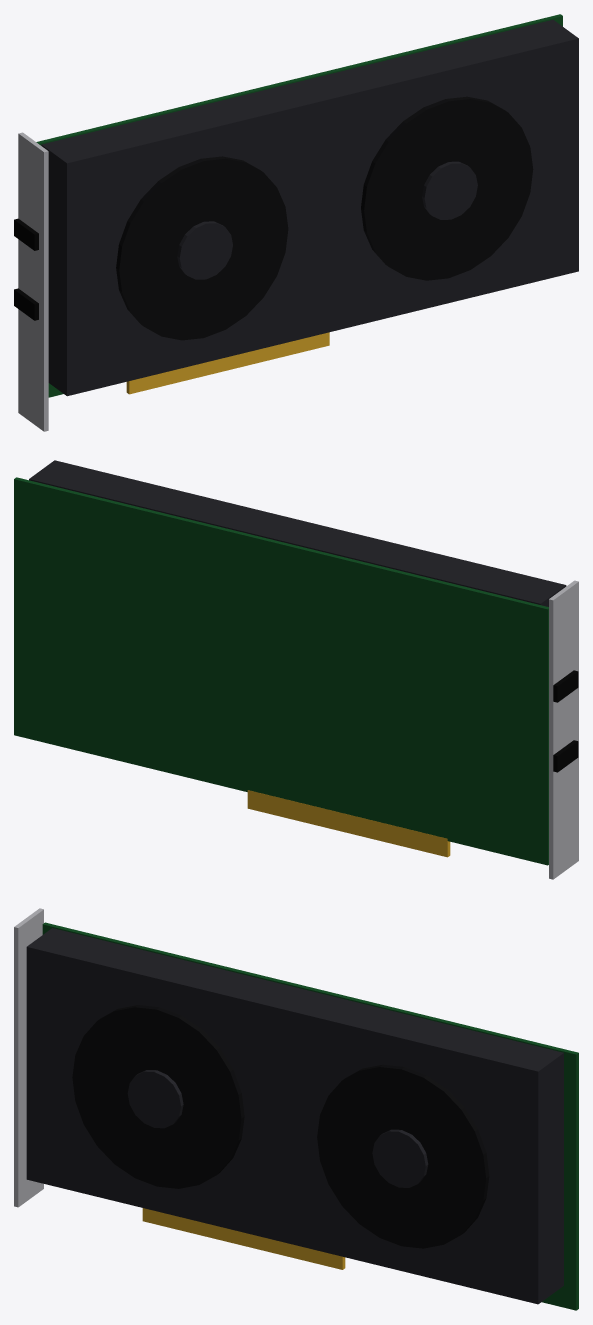
File: GraphicsCard.obj
3 renders of one model, top to bottom at view 1: azimuth 30°, elevation 25°; view 2: azimuth 150°, elevation 25°; view 3: azimuth 330°, elevation 25°, orthographic.
Parts seen in each view (by area): view 1: Shroud, Fan1, Fan2, Bracket, GoldContacts, FanHub1, FanHub2, PCB; view 2: PCB, Shroud, Bracket, GoldContacts, Port_HDMI; view 3: Shroud, Fan2, Fan1, PCB, Bracket, GoldContacts, FanHub2, FanHub1.
Boxes of the visible parts, x1,y1,x2,y2 form: Shroud: [41, 20, 578, 396]; Fan1: [116, 156, 288, 340]; Fan2: [361, 96, 533, 280]; Bracket: [18, 132, 48, 431]; GoldContacts: [126, 332, 329, 394]; FanHub1: [177, 221, 232, 279]; FanHub2: [422, 161, 477, 219]; PCB: [36, 14, 562, 397]; PCB: [14, 477, 548, 865]; Shroud: [29, 460, 566, 606]; Bracket: [549, 580, 578, 879]; GoldContacts: [247, 790, 450, 857]; Port_HDMI: [553, 670, 578, 702]; Shroud: [26, 928, 563, 1304]; Fan2: [317, 1064, 489, 1248]; Fan1: [72, 1005, 244, 1188]; PCB: [42, 922, 578, 1310]; Bracket: [14, 908, 43, 1207]; GoldContacts: [142, 1208, 345, 1269]; FanHub2: [372, 1129, 428, 1187]; FanHub1: [127, 1070, 183, 1128].
Bounding box in the file's own units: 0.245 × 0.122 × 0.0285.
